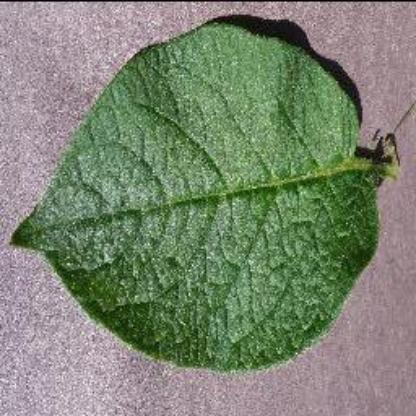Healthy-plant: (10, 22, 390, 374)
